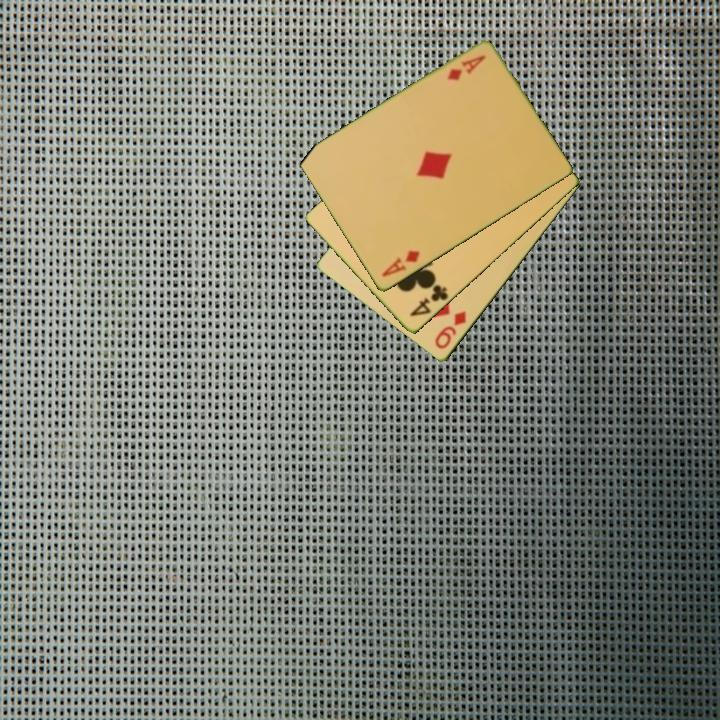4c: (406, 281, 451, 320)
9d: (431, 307, 469, 352)
Ad: (378, 247, 423, 280), (443, 52, 489, 84)
